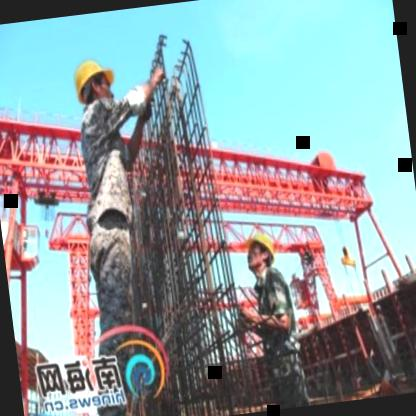helmet: (66, 52, 118, 112), (239, 224, 280, 278)
